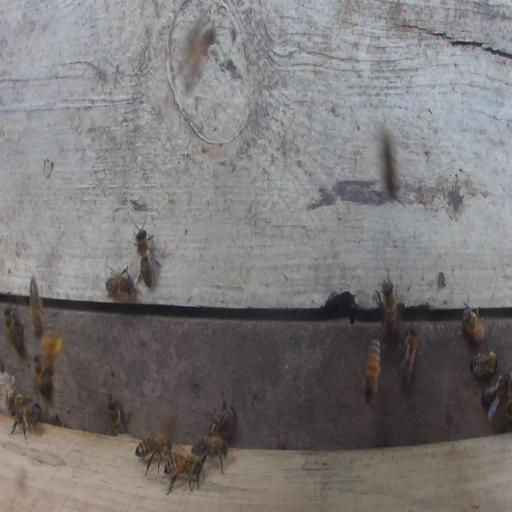nonpollenbee: (163, 452, 206, 495), (375, 269, 398, 341), (135, 226, 161, 289), (134, 432, 171, 475), (481, 372, 510, 419), (9, 401, 42, 439), (104, 265, 138, 300), (398, 326, 418, 384), (364, 336, 381, 404), (209, 395, 235, 439), (461, 301, 486, 345), (3, 306, 25, 353), (383, 131, 397, 199), (30, 275, 45, 338), (191, 436, 229, 458), (107, 399, 127, 437), (470, 350, 499, 376), (34, 353, 48, 394)
pollenbee: (40, 311, 62, 378)
